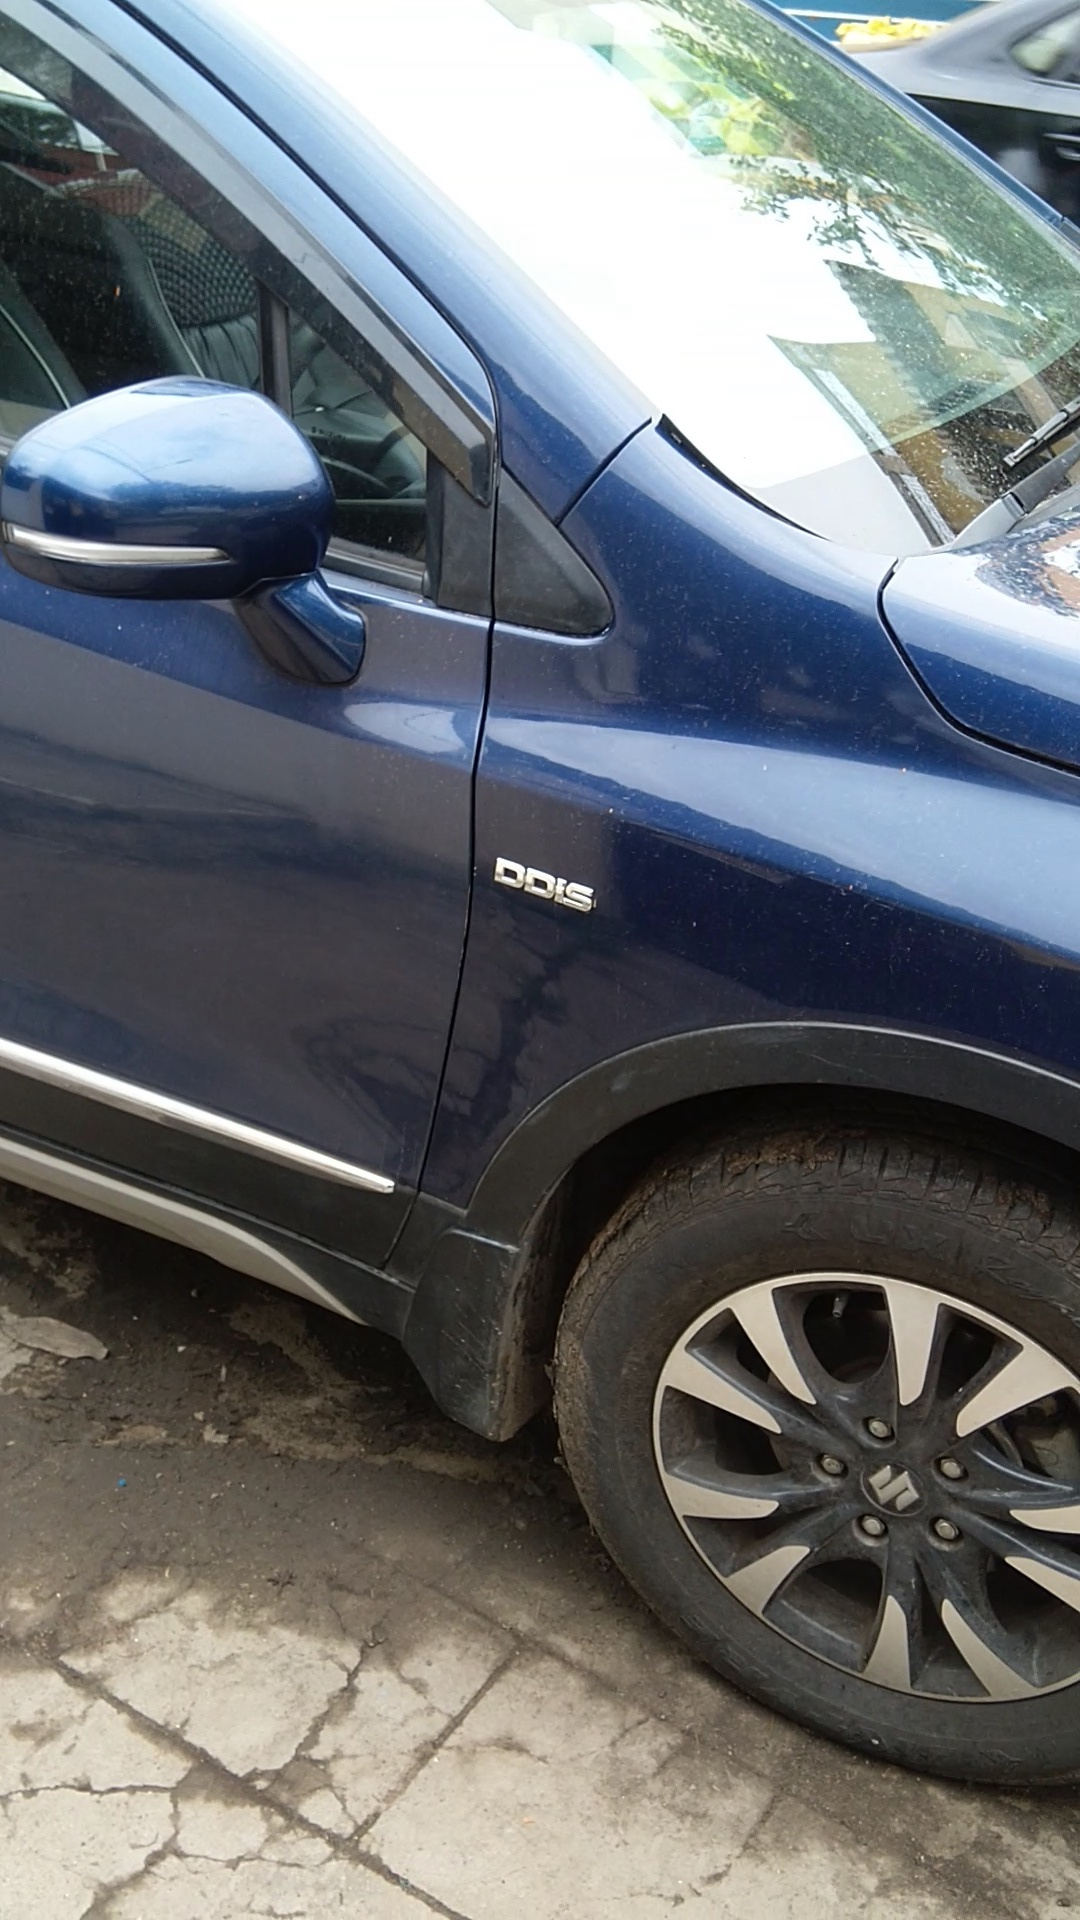alloy_wheel: (576, 1130, 1080, 1837)
ovr_mirror: (1, 355, 415, 723)
